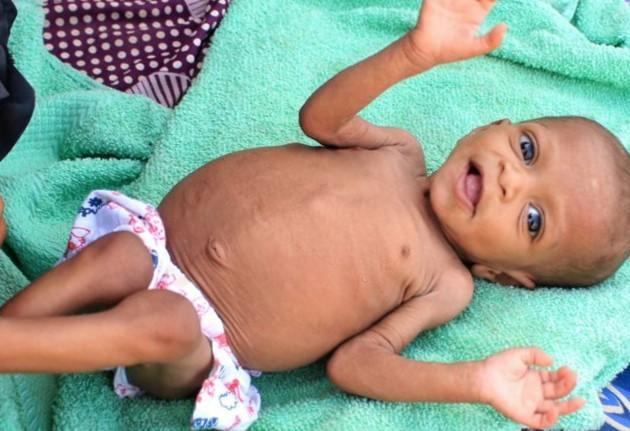Stunting: (404, 118, 630, 307)
